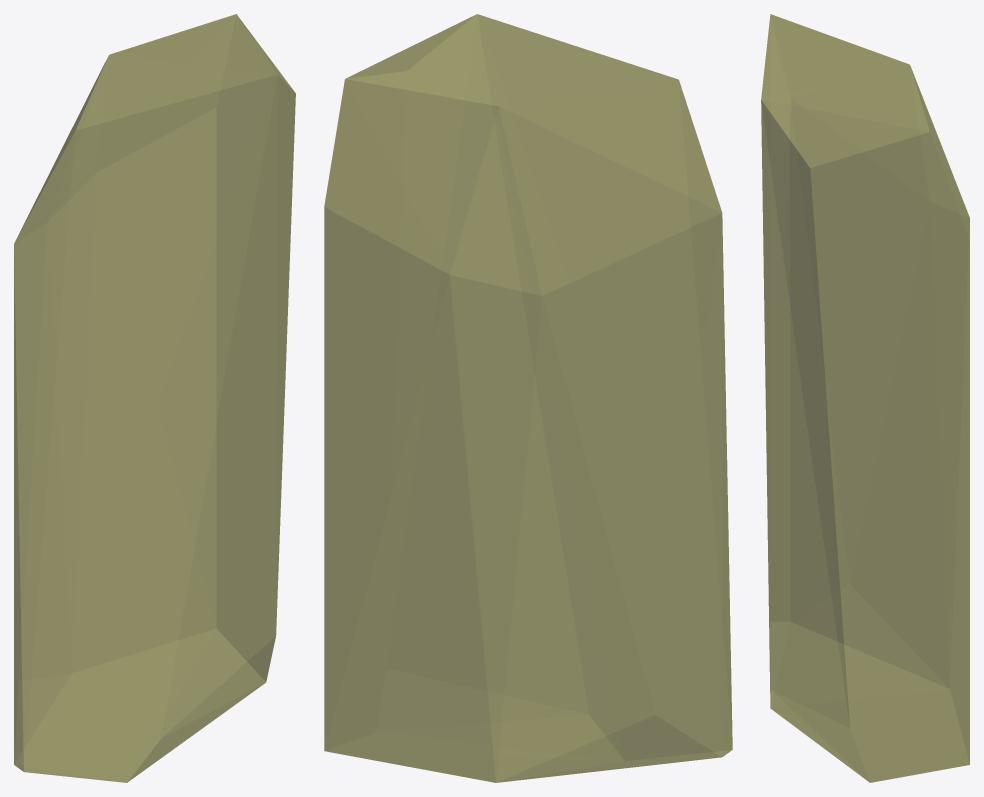
3 views of the same model, side by side, from view 1: azimuth 30°, elevation 25°; view 2: azimuth 150°, elevation 25°; view 3: azimuth 270°, elevation 25° (orthographic). The views are drawn at different scales.
Parts seen in each view (by area): view 1: Shape_IndexedFaceSet.006_Shape_IndexedFaceSet.15856; view 2: Shape_IndexedFaceSet.006_Shape_IndexedFaceSet.15856; view 3: Shape_IndexedFaceSet.006_Shape_IndexedFaceSet.15856.
Part boxes in pixels (x1,y1,x2,y2): Shape_IndexedFaceSet.006_Shape_IndexedFaceSet.15856: [14, 14, 295, 782]; Shape_IndexedFaceSet.006_Shape_IndexedFaceSet.15856: [324, 14, 732, 782]; Shape_IndexedFaceSet.006_Shape_IndexedFaceSet.15856: [761, 14, 969, 782].
Size of the model in its own units: 0.0389 by 0.0861 by 0.0239.
